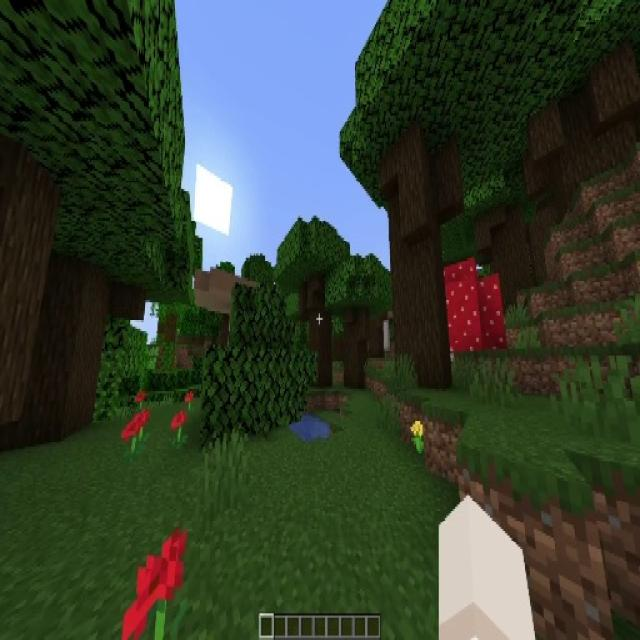dark_oak: (0, 0, 187, 446), (351, 6, 492, 392), (488, 0, 638, 190), (280, 224, 350, 390), (334, 254, 390, 384)
dark_oak_log: (0, 155, 113, 441), (385, 138, 448, 379), (535, 47, 631, 188), (483, 204, 527, 292), (306, 282, 336, 384), (346, 309, 370, 389)
